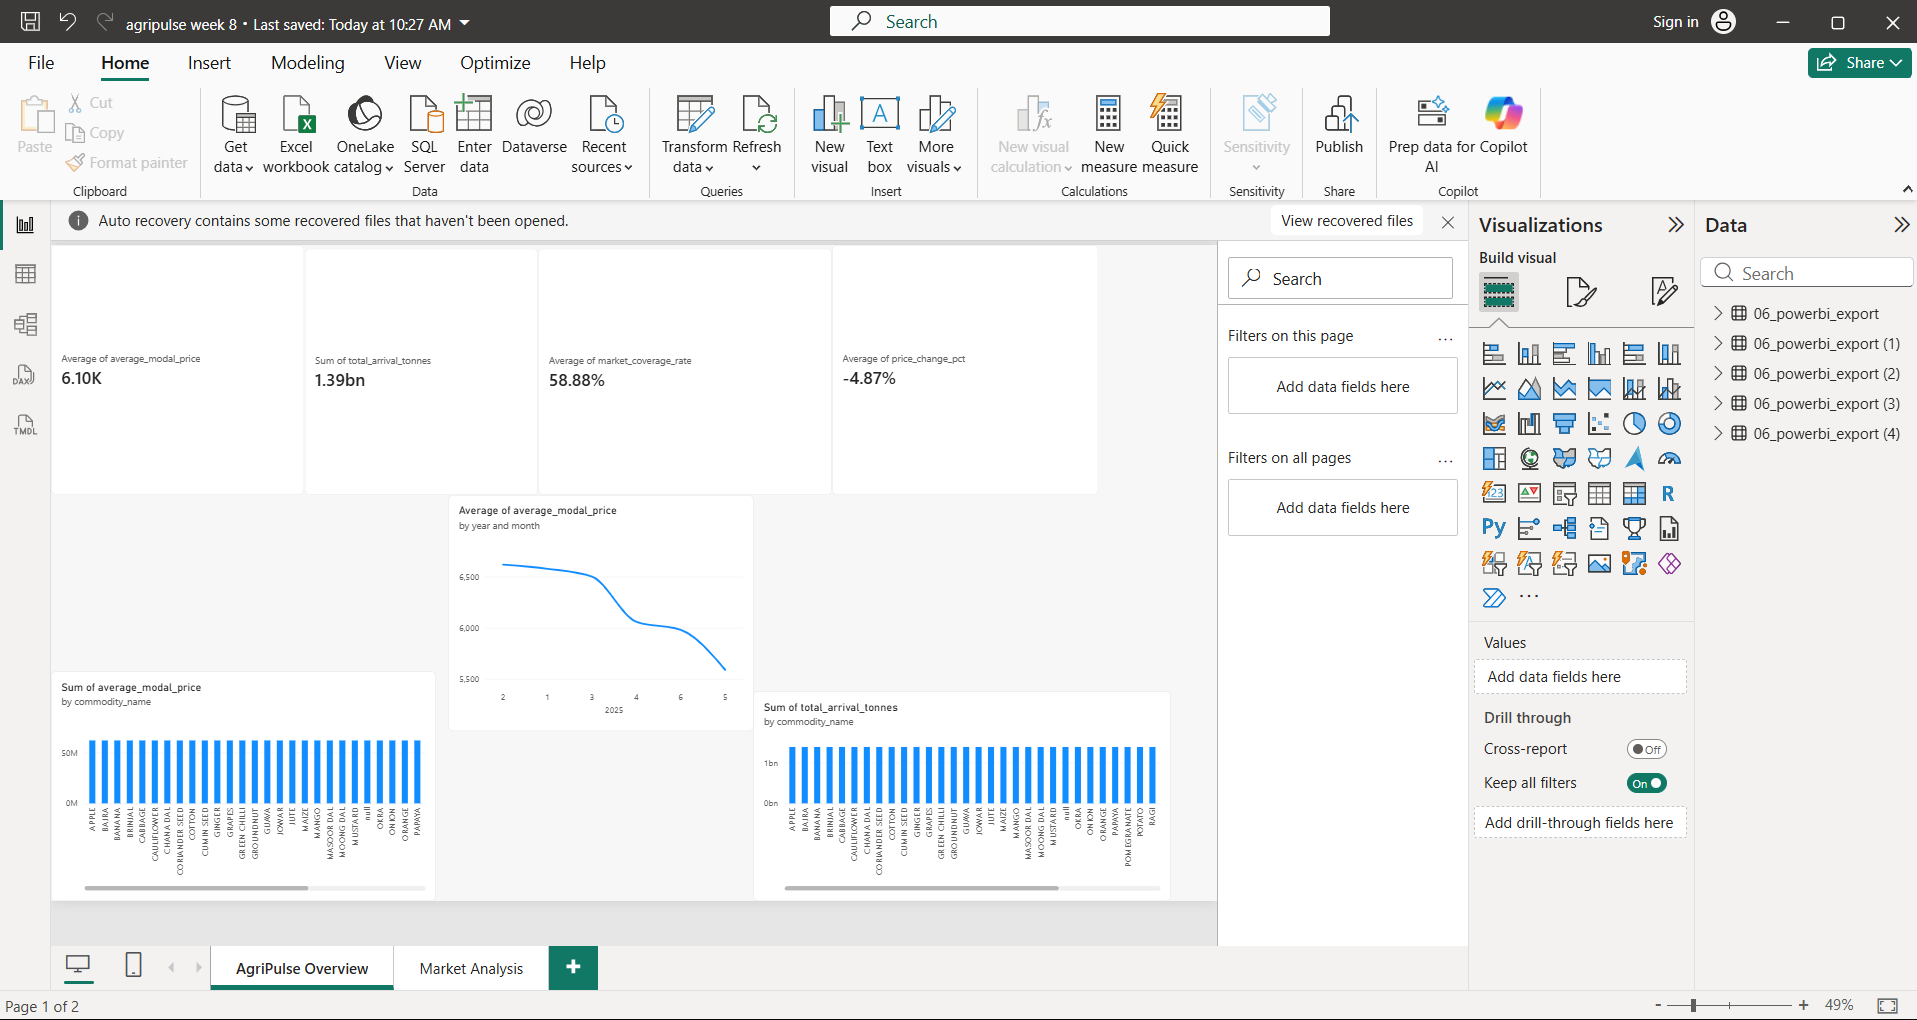

The page's visual inventory and layout, read from the dashboard file:
{"tool":"powerbi","page":{"name":"AgriPulse Overview","canvas":[1920,1080],"ordinal":0},"visuals":[{"type":"cardVisual","fields":{"Data":["Avg(06_powerbi_export.average_modal_price)"]},"box":[0,0,417.8,411.7],"z":0},{"type":"cardVisual","fields":{"Data":["Sum(06_powerbi_export (1).total_arrival_tonnes)"]},"box":[417.8,6.2,384.9,405.5],"z":1000},{"type":"cardVisual","fields":{"Data":["Avg(06_powerbi_export (2).market_coverage_rate)"]},"box":[802.7,6.2,483.7,405.5],"z":2000},{"type":"cardVisual","fields":{"Data":["Avg(06_powerbi_export (3).price_change_pct)"]},"box":[1286.5,0,438.4,411.7],"z":3000},{"type":"lineChart","fields":{"Category":["06_powerbi_export (4).year","06_powerbi_export (4).month"],"Y":["Avg(06_powerbi_export (4).average_modal_price)"]},"box":[654.5,411.7,502.2,389],"z":4000},{"type":"clusteredColumnChart","fields":{"Category":["06_powerbi_export (3).commodity_name"],"Y":["Sum(06_powerbi_export (4).average_modal_price)"]},"box":[0,701.9,634,378.7],"z":5000},{"type":"clusteredColumnChart","fields":{"Category":["06_powerbi_export (4).commodity_name"],"Y":["Sum(06_powerbi_export (1).total_arrival_tonnes)"]},"box":[1156.8,734.8,687.5,345.8],"z":6000}]}

Visuals, with their boxes on the page's 1920x1080 design canvas (x1, y1, x2, y2). These are canvas units, not pixel positions in the 1917x1020 screenshot, which may show the page scaled, cropped or inside an application window:
cardVisual - Avg(06_powerbi_export.average_modal_price): 0:0:418:412
cardVisual - Sum(06_powerbi_export (1).total_arrival_tonnes): 418:6:803:412
cardVisual - Avg(06_powerbi_export (2).market_coverage_rate): 803:6:1286:412
cardVisual - Avg(06_powerbi_export (3).price_change_pct): 1286:0:1725:412
lineChart - 06_powerbi_export (4).year x 06_powerbi_export (4).month: 654:412:1157:801
clusteredColumnChart - 06_powerbi_export (3).commodity_name x Sum(06_powerbi_export (4).average_modal_price): 0:702:634:1081
clusteredColumnChart - 06_powerbi_export (4).commodity_name x Sum(06_powerbi_export (1).total_arrival_tonnes): 1157:735:1844:1081
